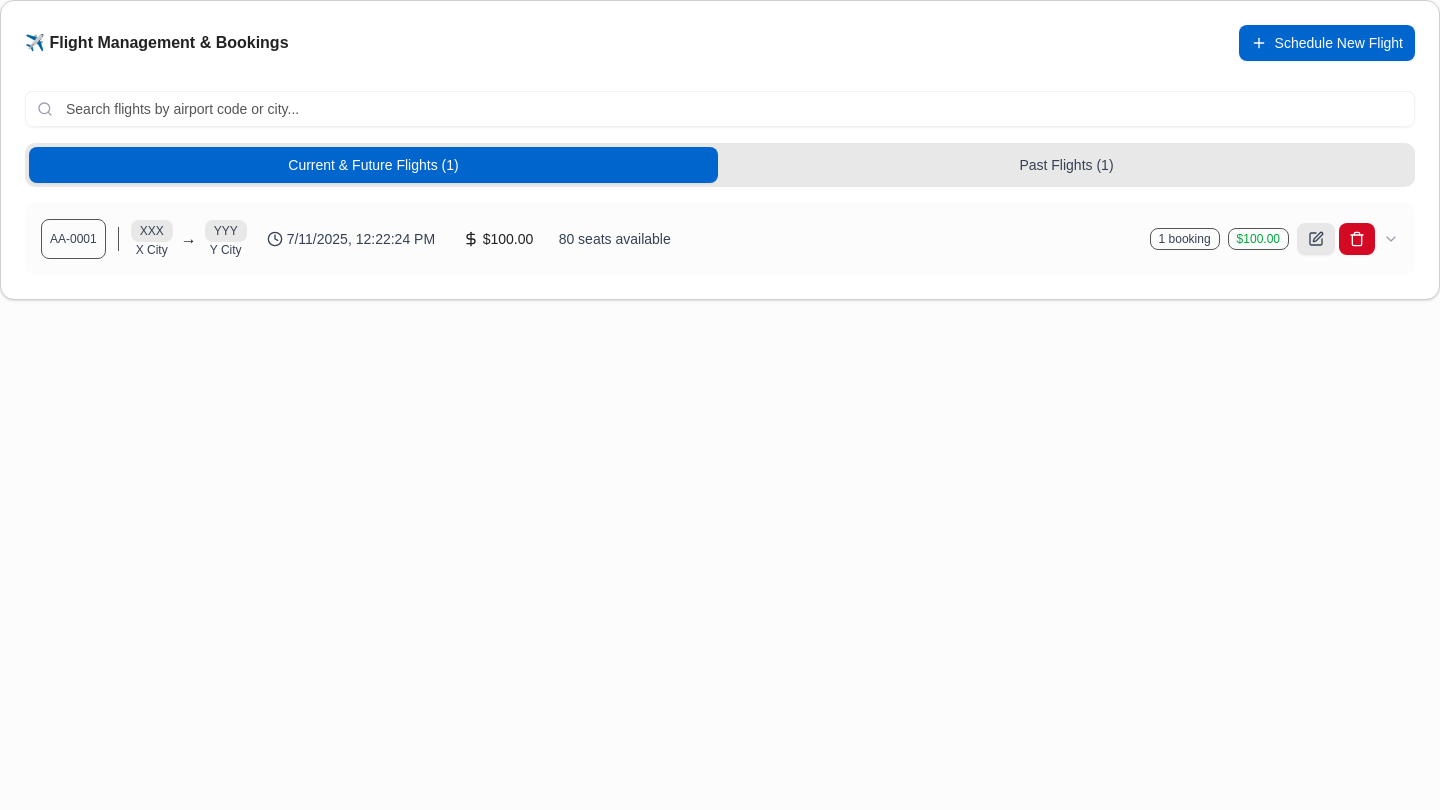
Test: FlightManagement › opens create flight form when "Schedule New Flight" button clicked
This screenshot has width=1440, height=810.
What coordinates should you click on to do the following:
click the button "Schedule New Flight"
I would click on:
 (1327, 43)
Its box is [1239, 25, 1415, 61].
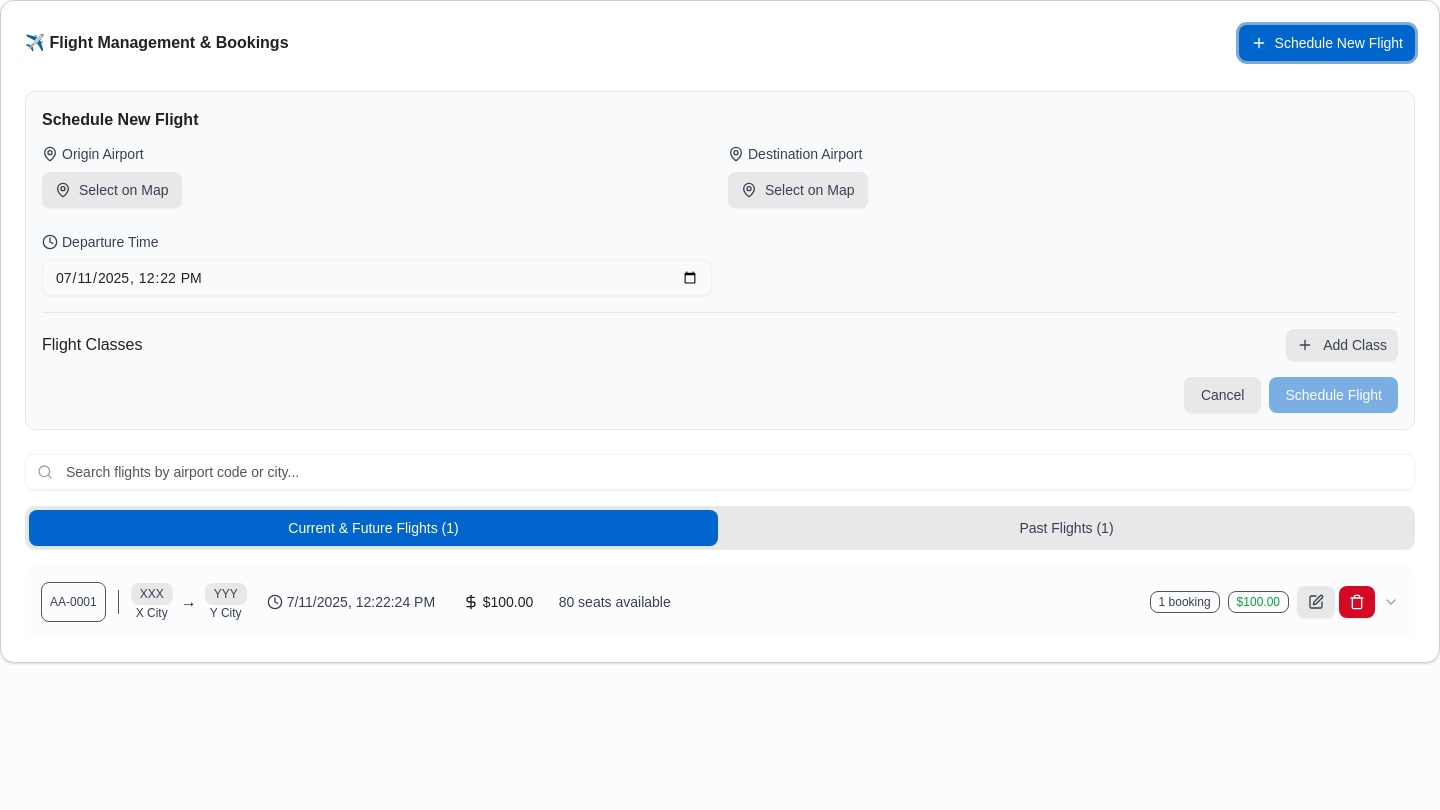
Check: the heading "Schedule New Flight" is shown, box [42, 111, 198, 128]
